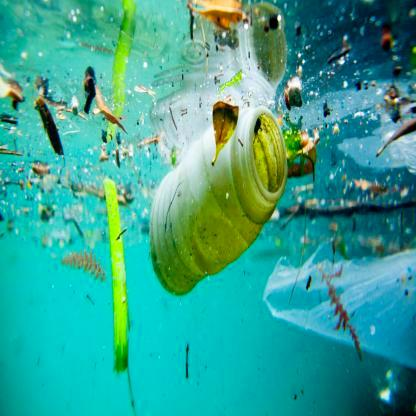Plastic: (145, 99, 290, 302)
